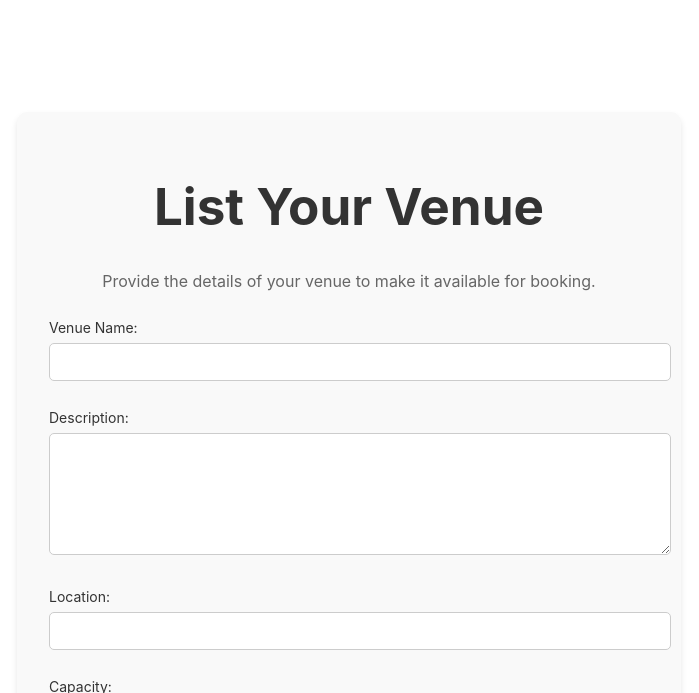
Test: ListVenue › displays error message on API failure
// Fill out the form
Type "Test Venue" into the field labelled "Venue Name:". click: point(360, 362)
box: [49,343,671,381]
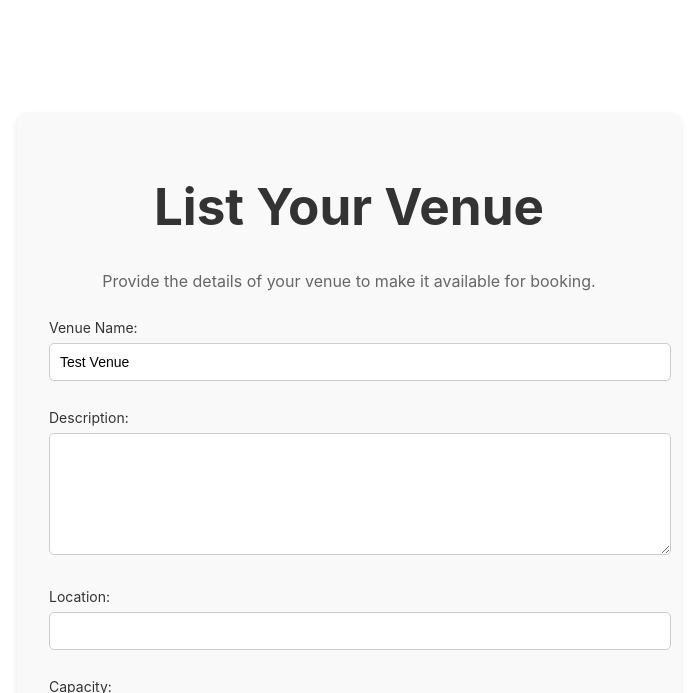
Type "Test Description" into the text box labelled "Description:". click: point(360, 494)
box: [49,433,671,555]
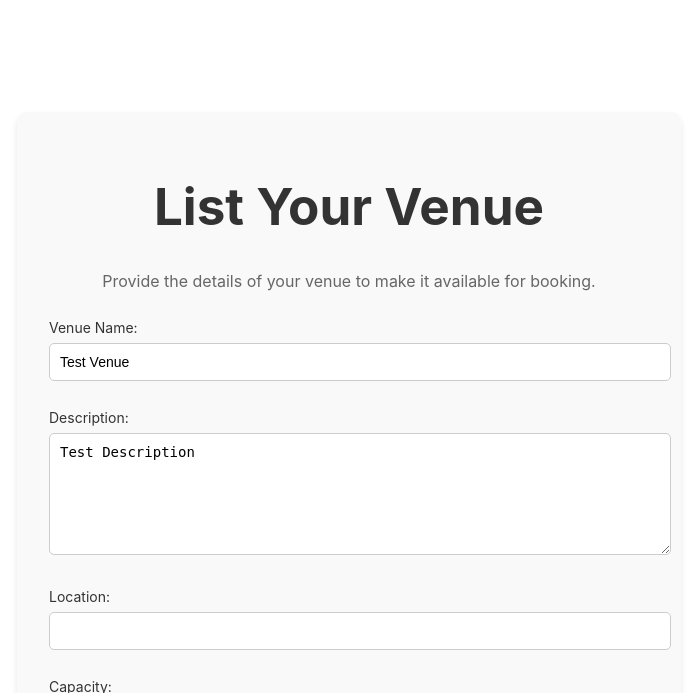
Type "Test Location" into the field labelled "Location:". click: point(360, 631)
box: [49,612,671,650]
(page scrolled)
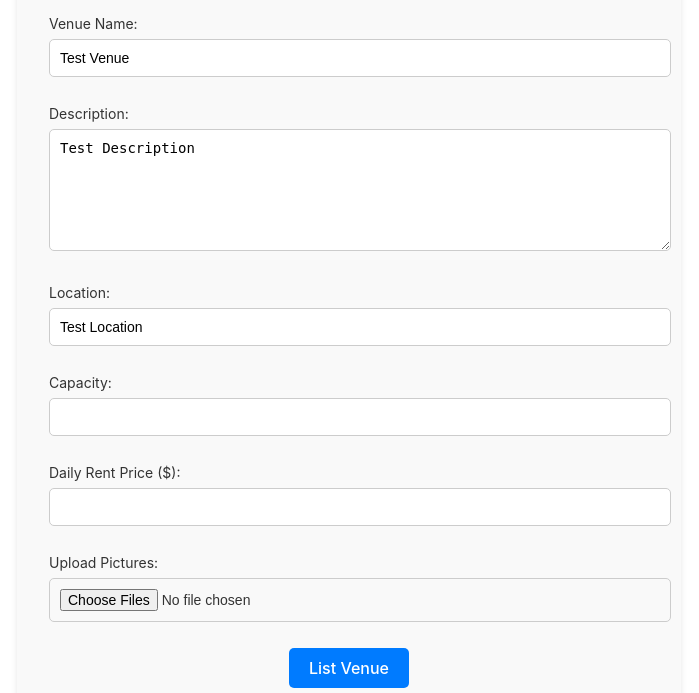
Type "100" into the number field labelled "Capacity:". click: point(360, 417)
box: [49,398,671,436]
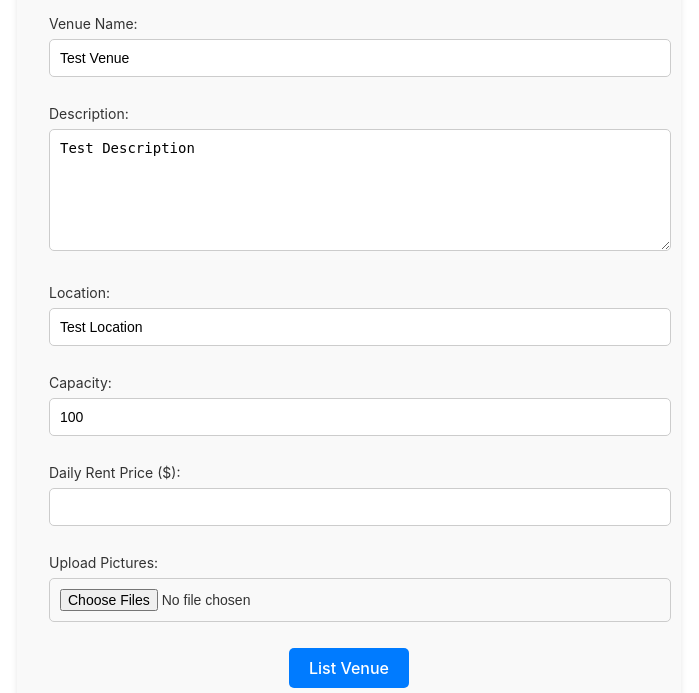
Type "500" into the number field labelled "Daily Rent Price ($):". click: point(360, 507)
box: [49,488,671,526]
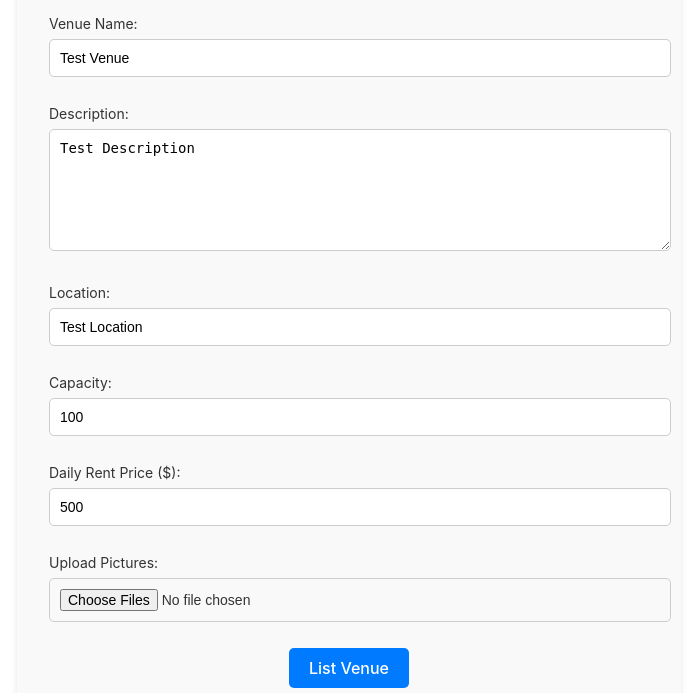
// Submit the form
Click the button "List Venue". click: point(349, 668)
box: [289,648,409,688]
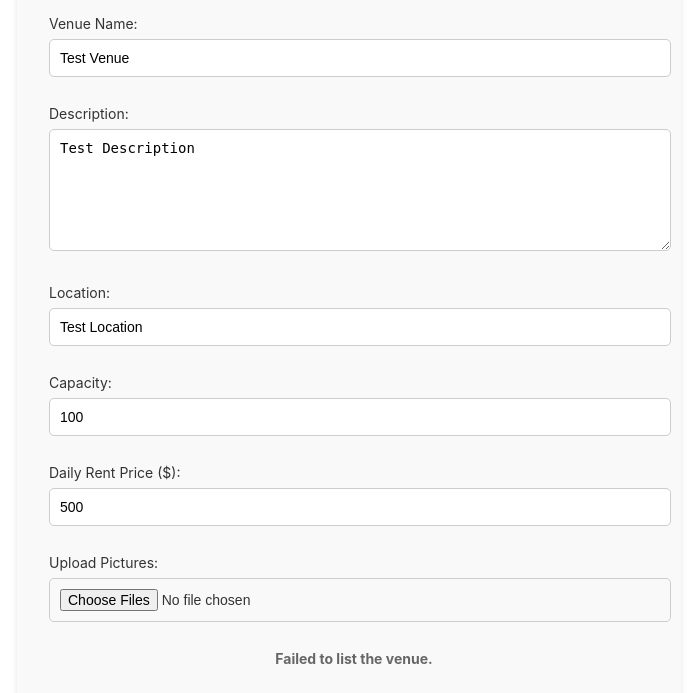
Expected: the text "Failed to list the venue." is shown, [275,650,433,667]
